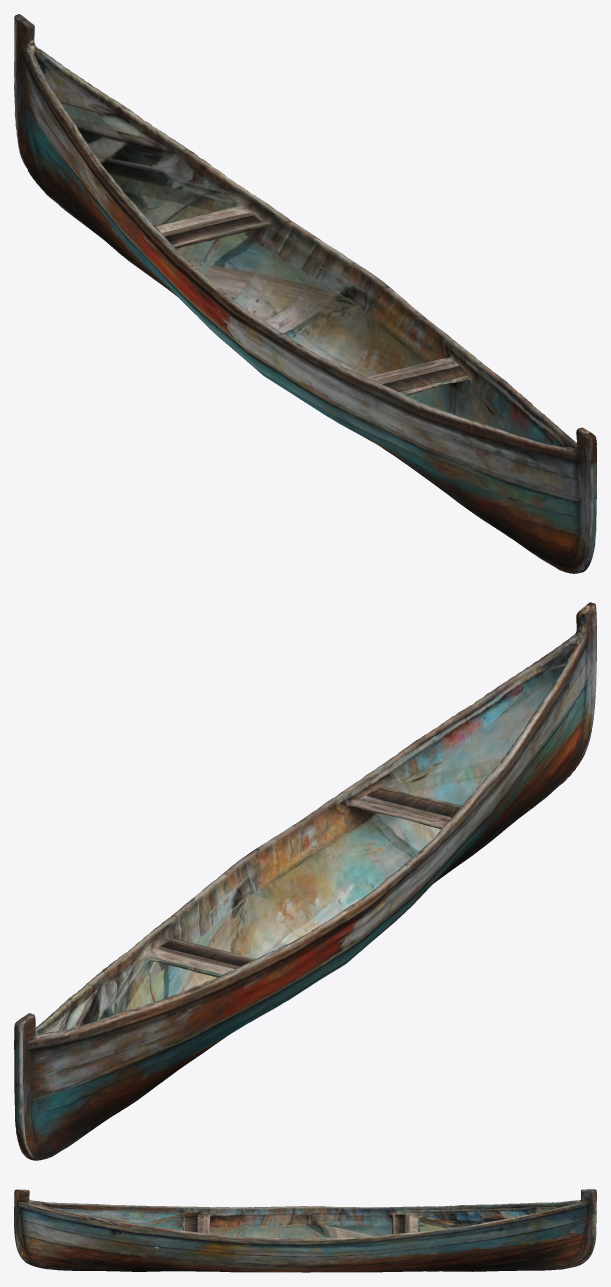
Rendered from boat.glb.
3 views of the same model, one above another, from view 1: azimuth 30°, elevation 25°; view 2: azimuth 150°, elevation 25°; view 3: azimuth 270°, elevation 25° (orthographic). The views are drawn at different scales.
Bounding box in the file's own units: 0.275 × 0.3095 × 2.
1 material, 1 textured.
